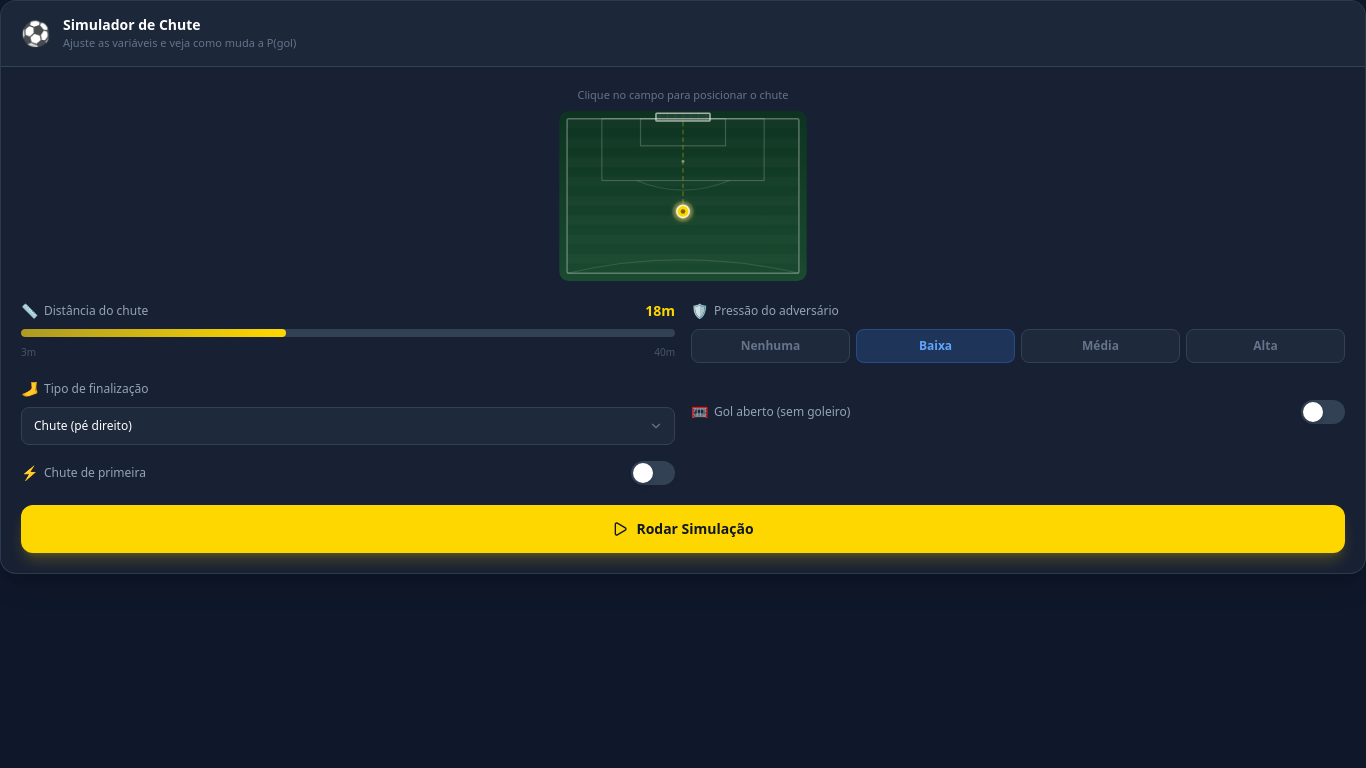
Scenario: SimulatorCard — Interaction Testing (erro sem override) › clicar em Rodar Simulação sem alterar nada exibe aviso
Click the button "Rodar Simulação": click(683, 529) x1=21 y1=505 x2=1345 y2=553
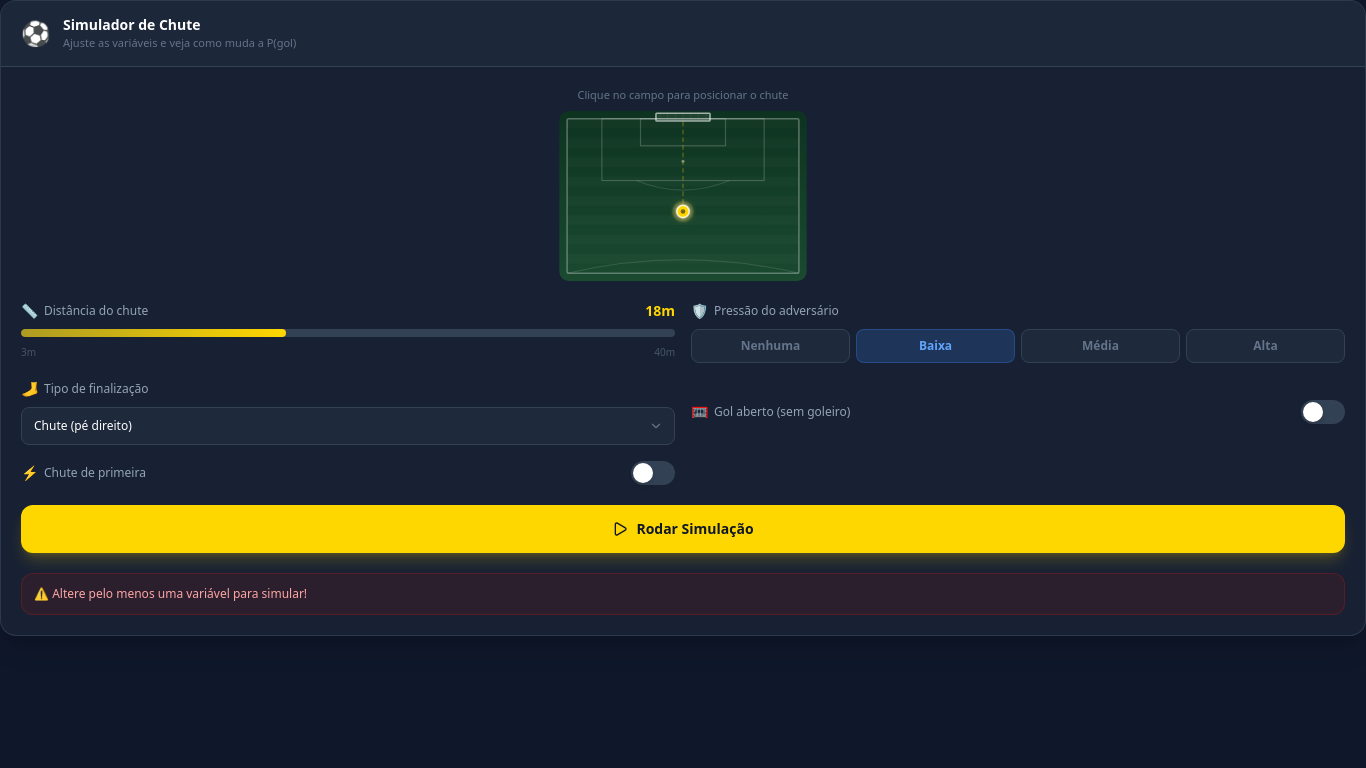
Result: the text "⚠️ Altere pelo menos uma variável para simular!" is shown at x1=21 y1=573 x2=1345 y2=615
